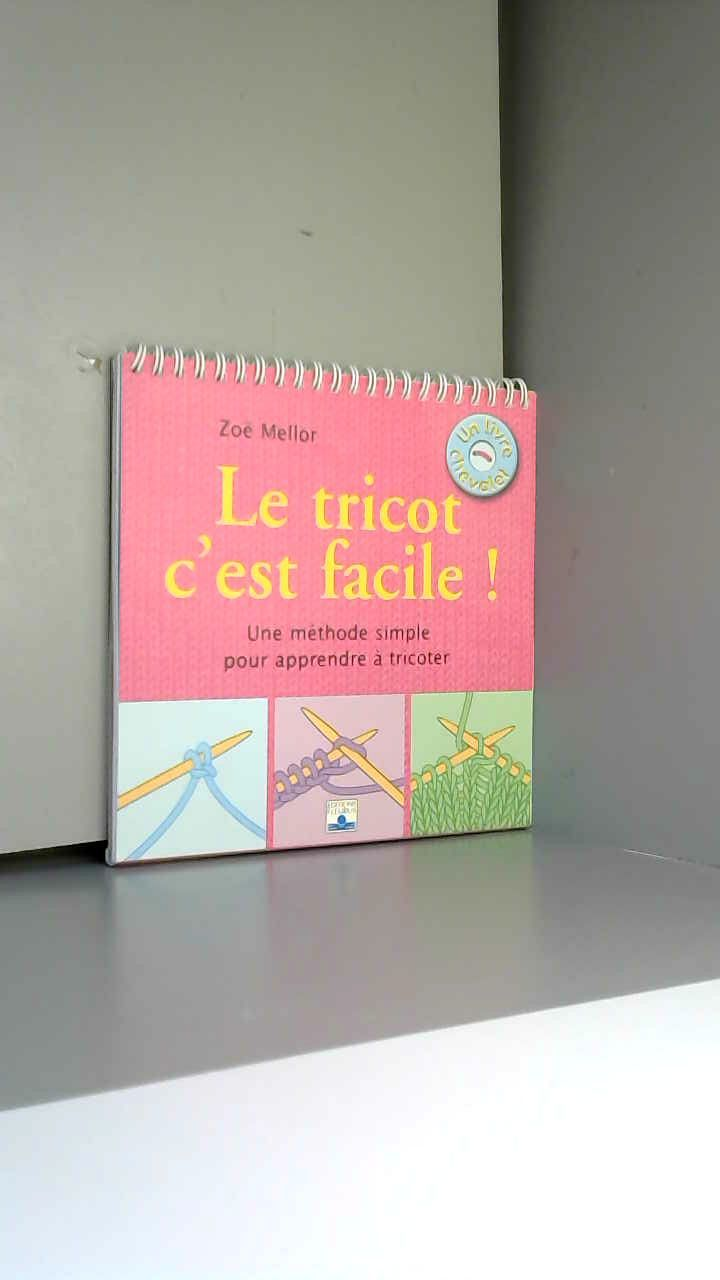book: (65, 315, 571, 901)
